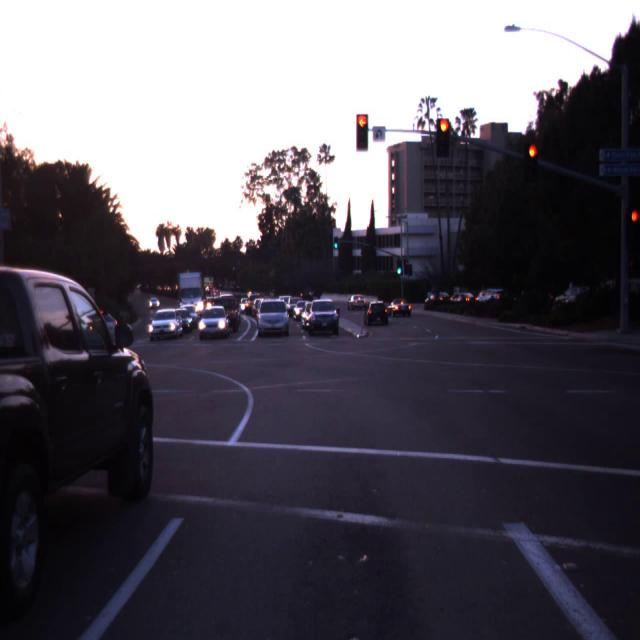kirmizi: (356, 114, 368, 150)
